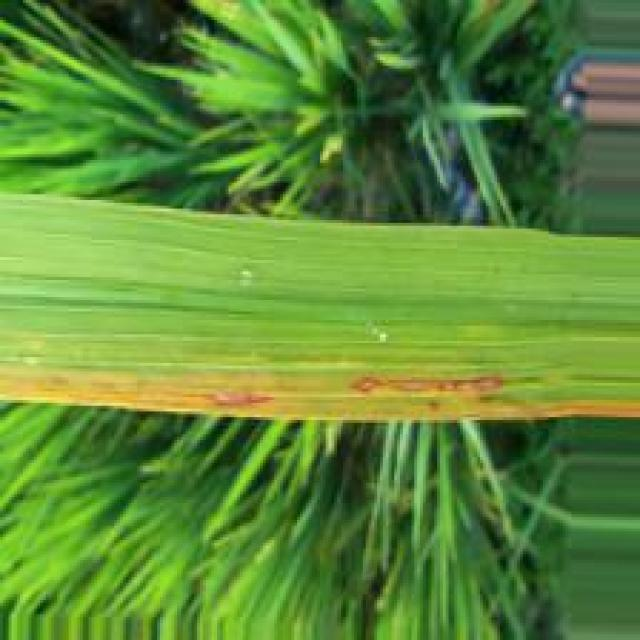Leaf_Blast: (348, 363, 546, 418)
